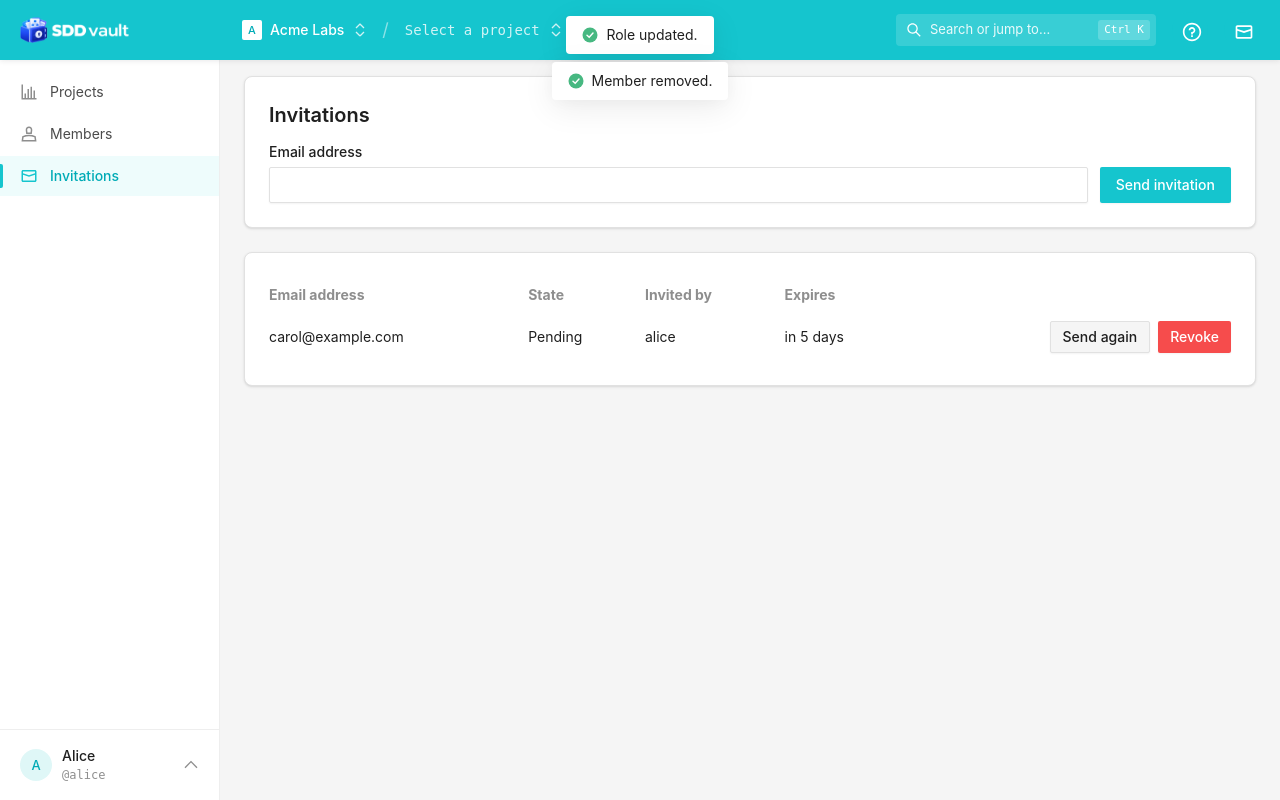
it: owners send, resend and revoke invitations
Type "dan@example.com" into the field labelled "Email address".
click(678, 185); type("dan@example.com")  # box [269,167,1088,203]
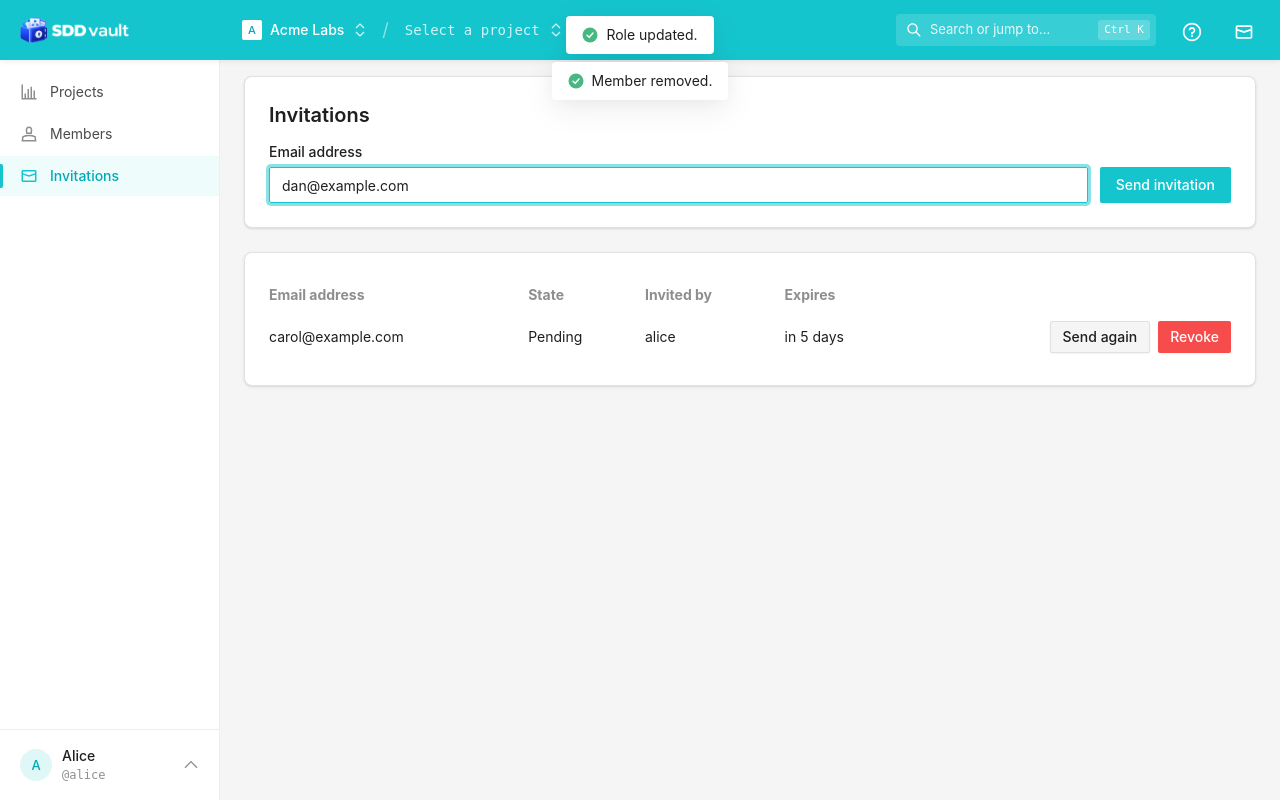
Click the button "Send invitation".
click(1165, 185)  # box [1100,167,1231,203]
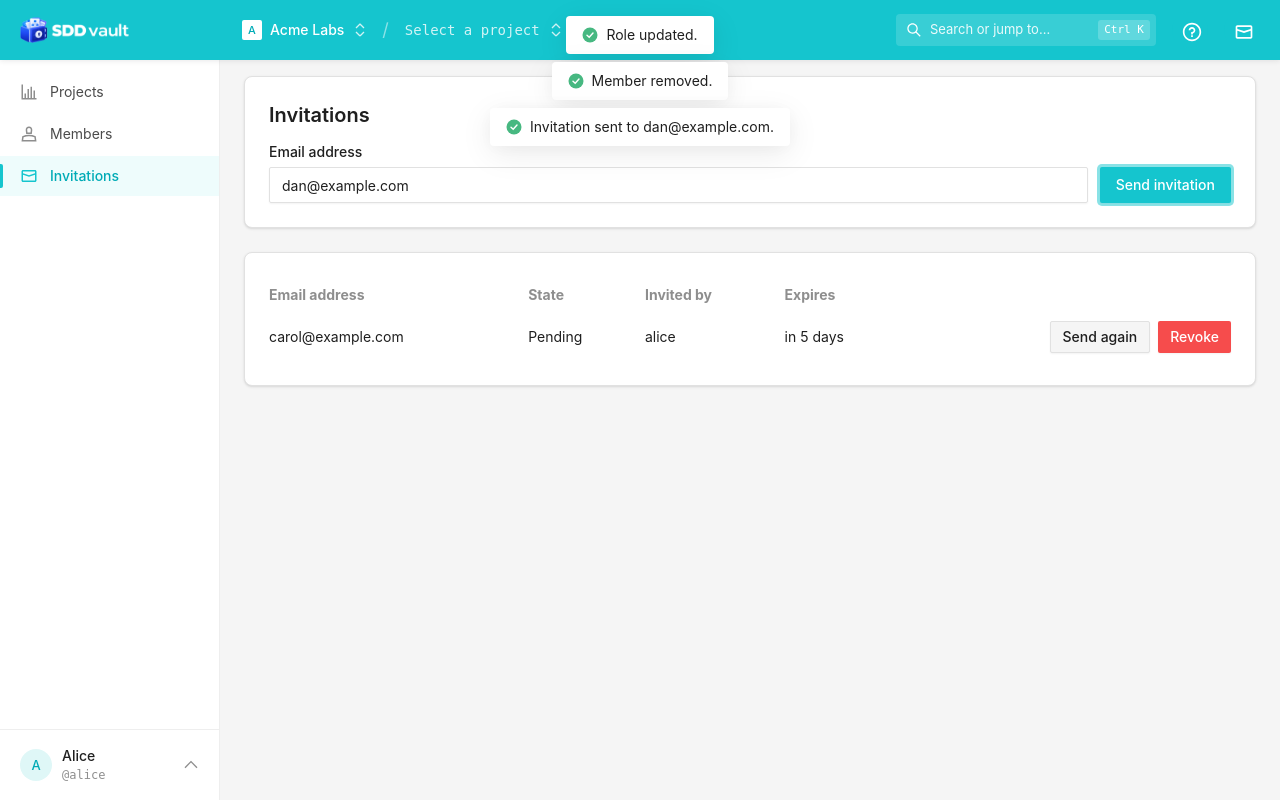
Check: the text "Pending" is shown, box [528,313,645,361]
Check: the text "Invitation sent to dan@example.com." is shown, box [490,108,790,146]
Click the button "Send again".
click(1100, 337)  # box [1050,321,1150,353]
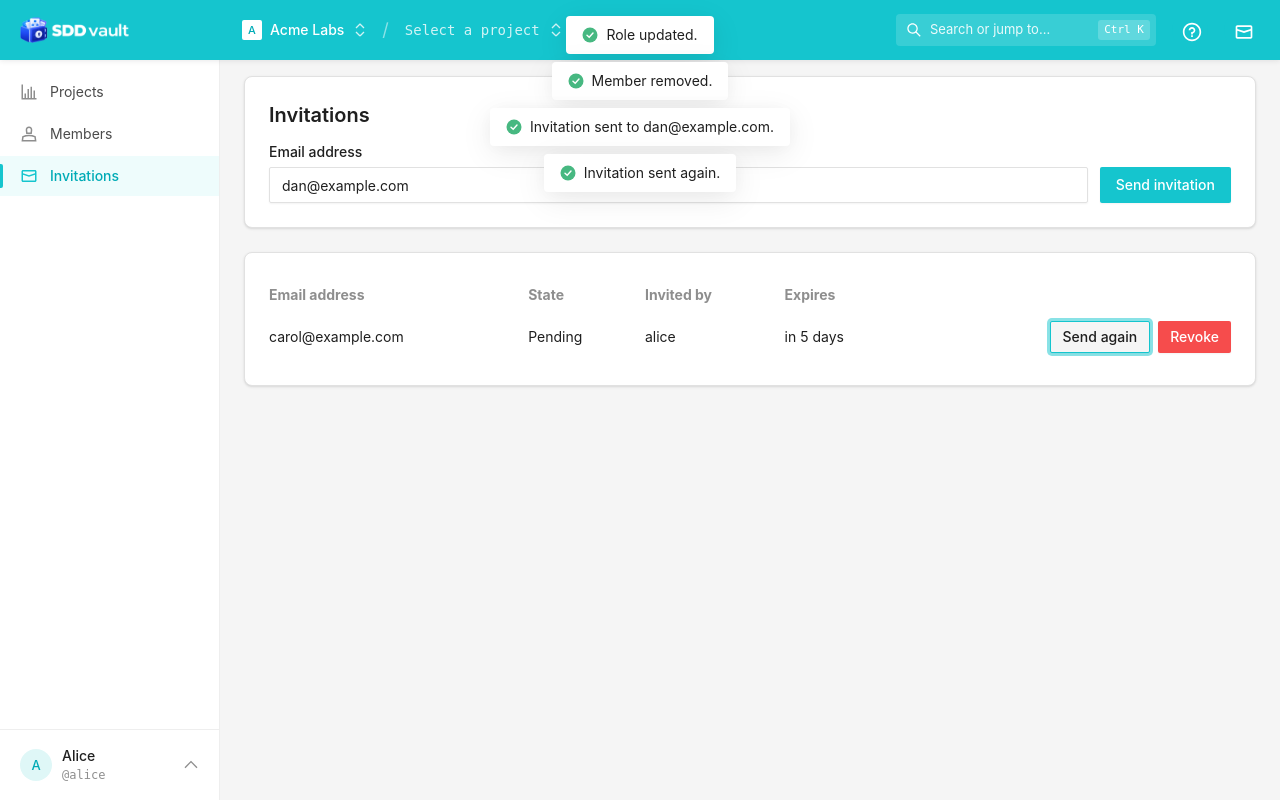
Check: the text "Invitation sent again." is shown, box [544,154,736,192]
Click the button "Revoke".
click(1195, 337)  # box [1158,321,1231,353]
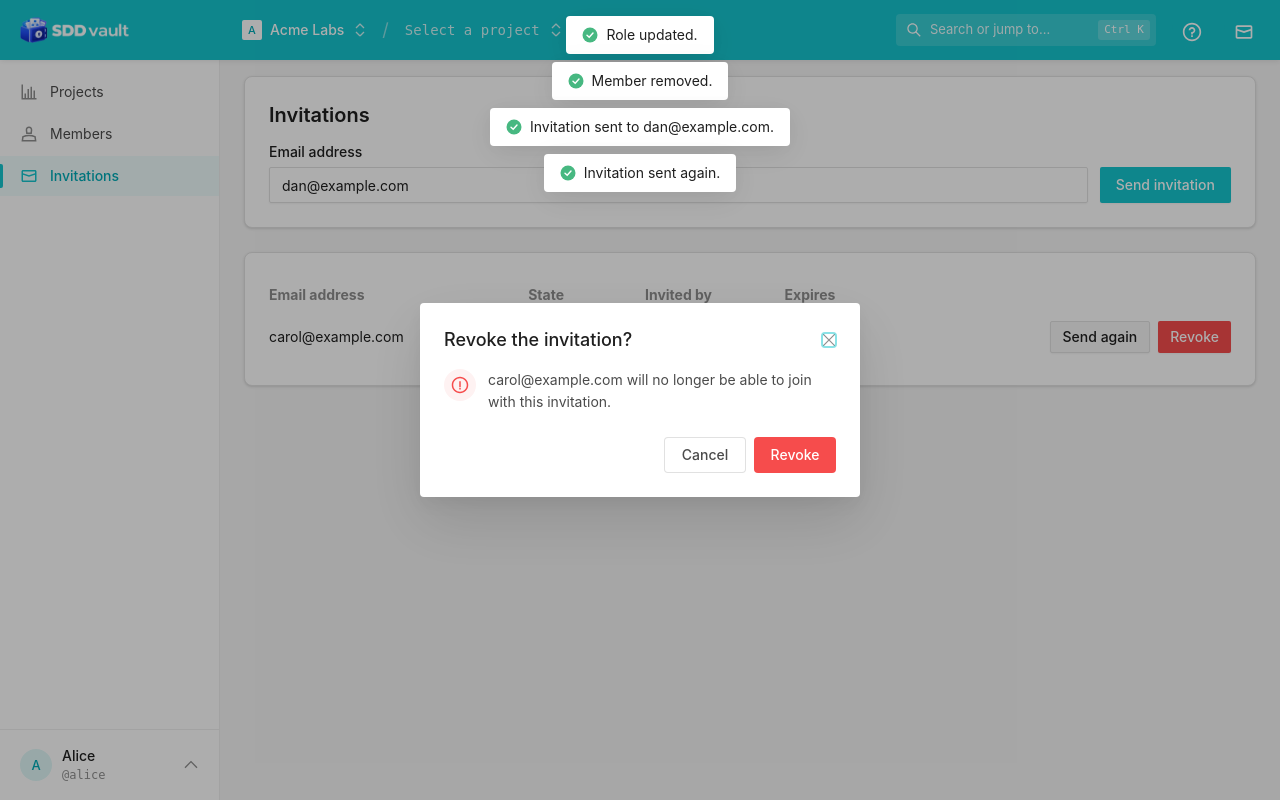
Click the button "Revoke".
click(795, 455)  # box [754,437,836,473]
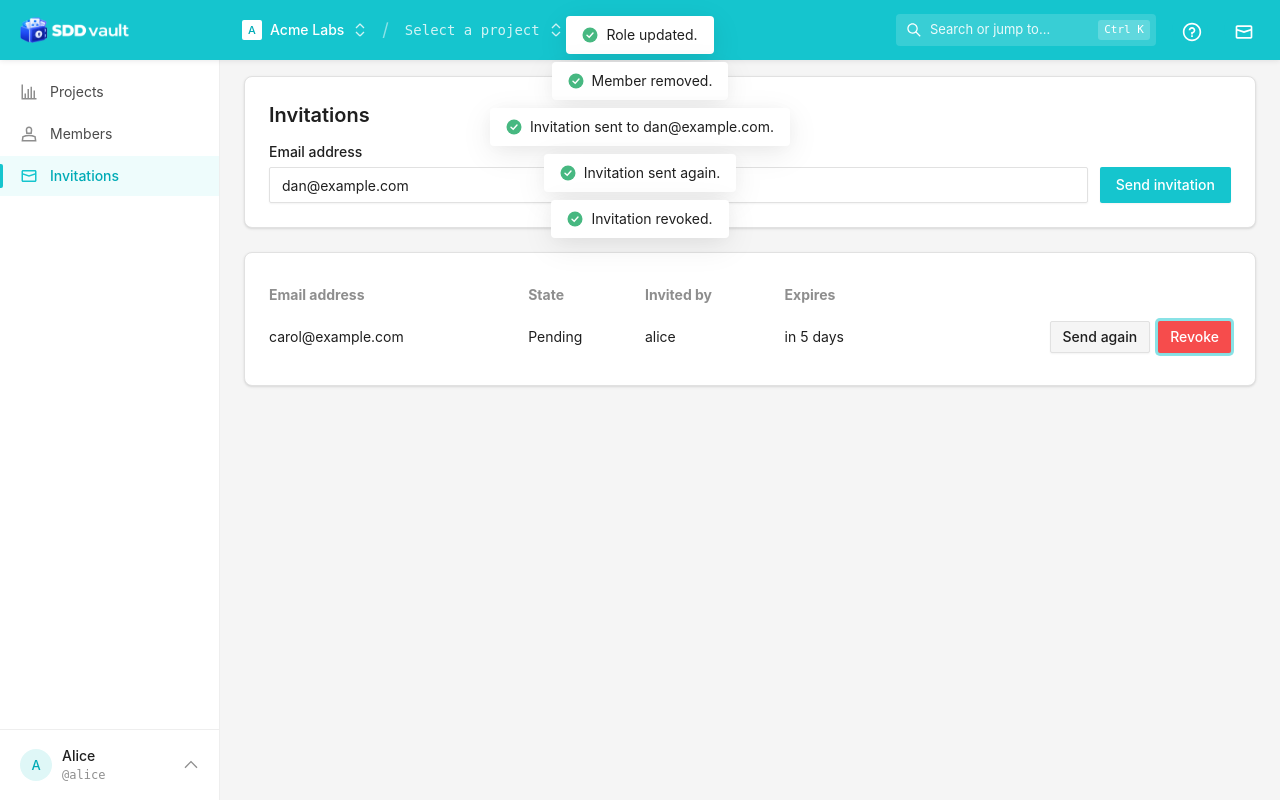
Check: the text "Invitation revoked." is shown, box [551,200,729,238]
